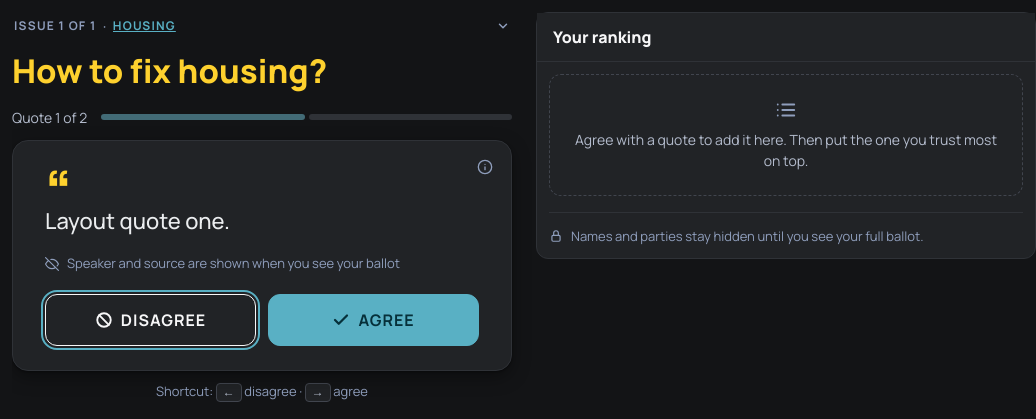
it: evaluation layout › desktop: keyboard focus returns to the matching verdict button after a verdict
Step 1. Click the button with aria-label "Disagree with this quote" → click(150, 319), box [45,293,256,345]
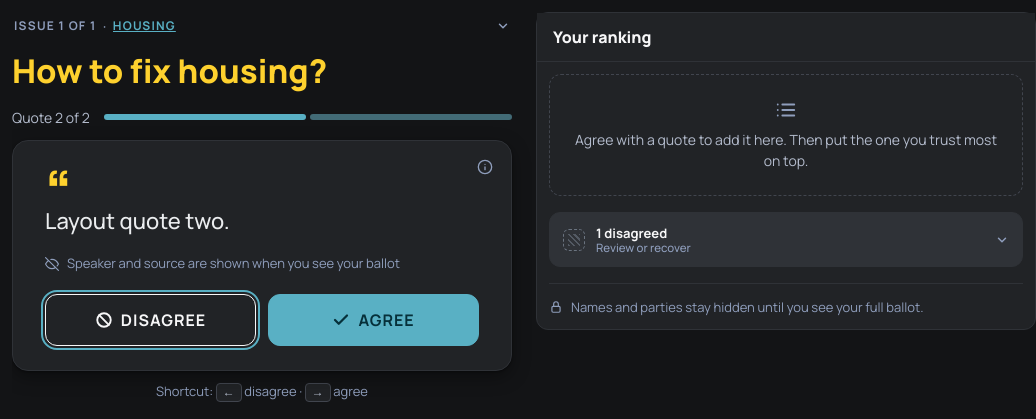
expect the text "Layout quote two." is shown: met, box [45,206,230,236]
